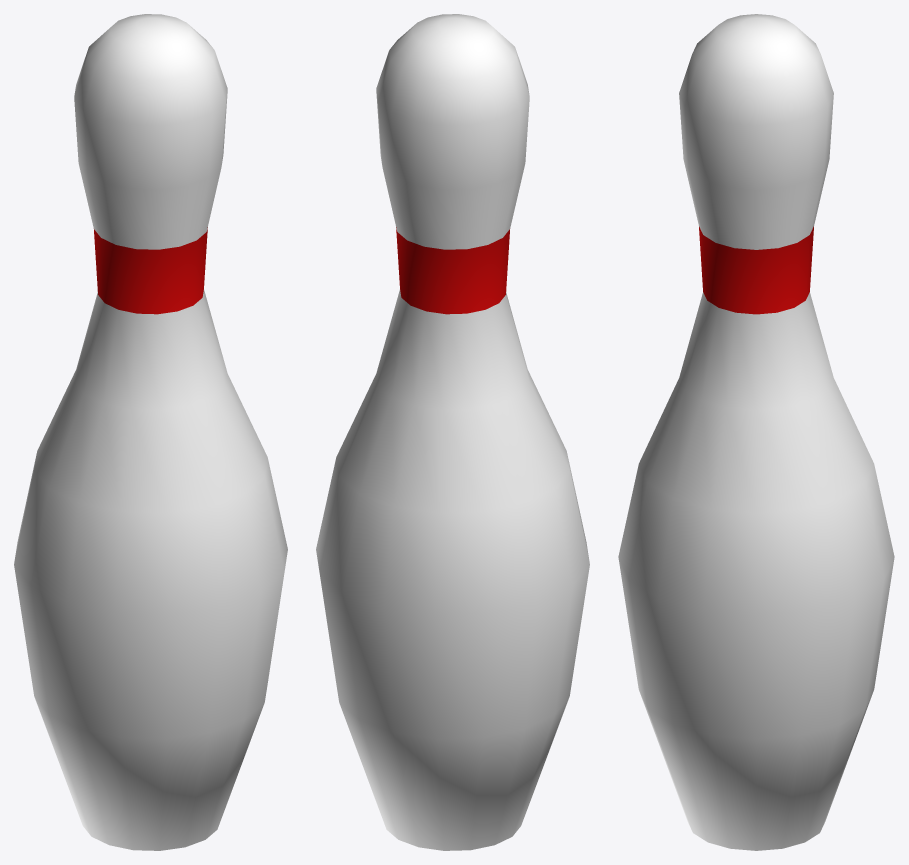
The model's file is bowling_pin.glb.
3 renders of one model, left to right at view 1: azimuth 30°, elevation 25°; view 2: azimuth 150°, elevation 25°; view 3: azimuth 270°, elevation 25°, orthographic.
Visible parts, largest first — view 1: BowlingPin; view 2: BowlingPin; view 3: BowlingPin.
Boxes of the visible parts, bbox=[...] form: BowlingPin: bbox=[14, 14, 287, 850]; BowlingPin: bbox=[316, 14, 589, 850]; BowlingPin: bbox=[618, 14, 894, 850].
Size of the model in its own units: 0.1197 by 0.3812 by 0.1197.
1 material, 1 textured.
